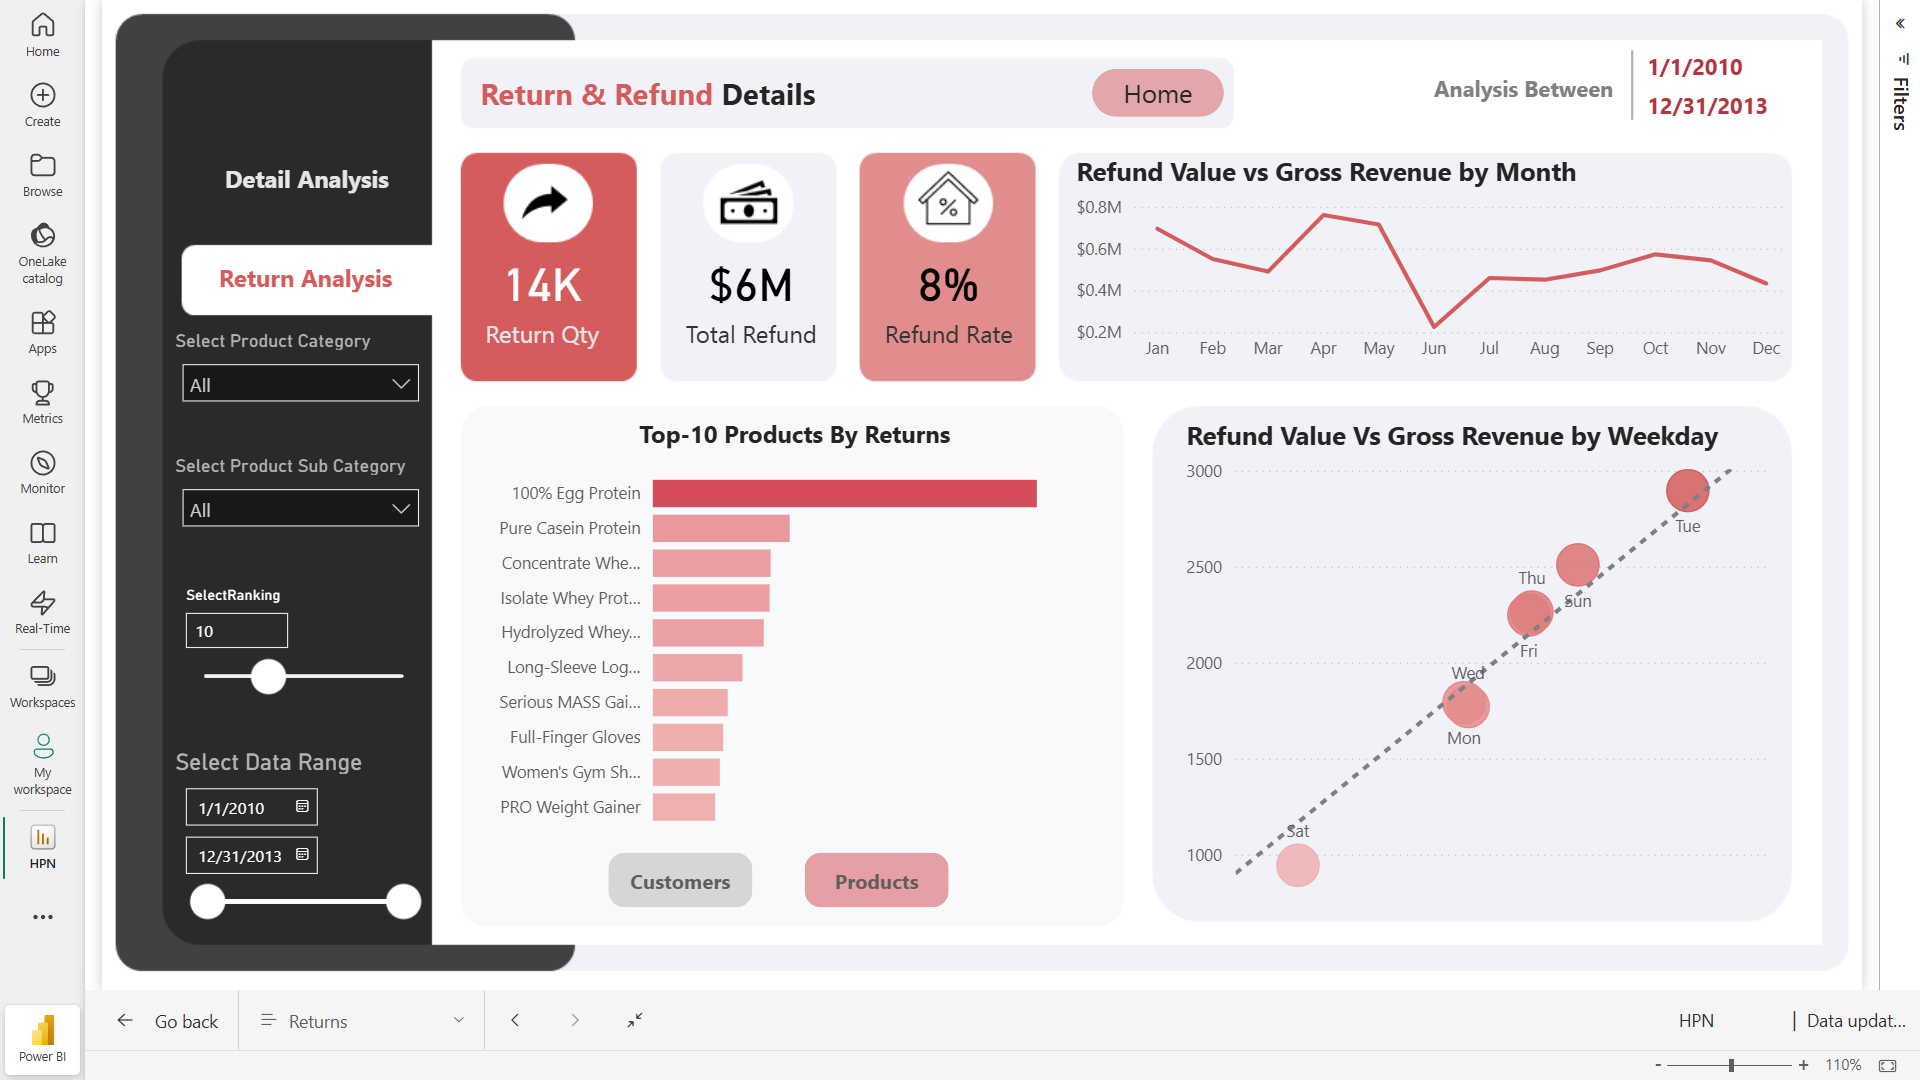

This screenshot's page, from the dashboard's own definition file:
{"tool":"powerbi","page":{"name":"Returns","canvas":[1280,720],"ordinal":5},"visuals":[{"type":"multiRowCard","fields":{"Values":["All Measures.First date","All Measures.Last date"]},"box":[1107.2,32,160,64],"z":0,"group":"g4"},{"type":"actionButton","title":"C inactive","box":[368,620,105,40],"z":0,"group":"g2"},{"type":"group","id":"g1","title":"BTN Products","box":[511,620,112,48],"z":0},{"type":"textbox","box":[963.2,48,160,32],"z":1000,"group":"g4"},{"type":"clusteredBarChart","fields":{"Category":["Lookup_Products.ProductName"],"Y":["All Measures.Ranking by Product"]},"box":[272,304,464,309],"z":1000,"group":"g3"},{"type":"group","id":"g2","title":"BTN Customers","box":[368,620,112,48],"z":1000},{"type":"actionButton","title":"P active","box":[511,620,105,40],"z":1000,"group":"g1"},{"type":"slicer","fields":{"Values":["SelectRanking.SelectRanking"]},"box":[48,421.3,192,96],"z":2000},{"type":"group","id":"g3","title":"Charts","box":[272,304,464,309],"z":3000},{"type":"card","fields":{"Values":["All Measures.Quantity Returned"]},"box":[256,160,128,112],"z":4000},{"type":"card","fields":{"Values":["All Measures.Total Refund"]},"box":[416,160,112,112],"z":5000},{"type":"lineChart","title":"Refund Value vs Gross Revenue by Month","fields":{"Category":["Calendar.Year","Calendar.Month","Calendar.QT"],"Y":["All Measures.Total Refund"]},"box":[704,112,528,160],"z":6000},{"type":"card","fields":{"Values":["All Measures.% Refund Rate"]},"box":[560,160,112,112],"z":7000},{"type":"scatterChart","title":"Refund Value Vs Gross Revenue by Weekday","fields":{"Category":["Calendar.Weekday"],"X":["All Measures.Total Refund"],"Y":["All Measures.Quantity Returned"]},"box":[784,304,432,352],"z":8000},{"type":"slicer","title":"Select Data Range","fields":{"Values":["Calendar.Date"]},"box":[48,544,192,128],"z":9000},{"type":"slicer","title":"Select Product Category","fields":{"Values":["Lookup_ProductsCategory.CategoryName"]},"box":[48,240,192,64],"z":10000},{"type":"slicer","title":"Select Product Sub Category","fields":{"Values":["Lookup_ProductsSubCategory.SubcategoryName"]},"box":[48,330.7,192,64],"z":11000},{"type":"textbox","box":[270,48,304,48],"z":12000},{"type":"group","id":"g4","title":"Group 1","box":[963.2,32,304,64],"z":13000},{"type":"actionButton","title":"inactive Quartile","box":[61,105,176,48],"z":14000},{"type":"actionButton","title":"inactive Quartile","box":[60,177,176,48],"z":15000},{"type":"actionButton","box":[720,50,96,35],"z":16000}]}

Visuals, with their boxes on the page's 1280x720 design canvas (x1, y1, x2, y2). These are canvas units, not pixel positions in the 1920x1080 screenshot, which may show the page scaled, cropped or inside an application window:
multiRowCard - All Measures.First date x All Measures.Last date: 1107/32/1267/96
"C inactive" actionButton: 368/620/473/660
"BTN Products" group: 511/620/623/668
textbox: 963/48/1123/80
clusteredBarChart - Lookup_Products.ProductName x All Measures.Ranking by Product: 272/304/736/613
"BTN Customers" group: 368/620/480/668
"P active" actionButton: 511/620/616/660
slicer - SelectRanking.SelectRanking: 48/421/240/517
"Charts" group: 272/304/736/613
card - All Measures.Quantity Returned: 256/160/384/272
card - All Measures.Total Refund: 416/160/528/272
"Refund Value vs Gross Revenue by Month" lineChart: 704/112/1232/272
card - All Measures.% Refund Rate: 560/160/672/272
"Refund Value Vs Gross Revenue by Weekday" scatterChart: 784/304/1216/656
"Select Data Range" slicer: 48/544/240/672
"Select Product Category" slicer: 48/240/240/304
"Select Product Sub Category" slicer: 48/331/240/395
textbox: 270/48/574/96
"Group 1" group: 963/32/1267/96
"inactive Quartile" actionButton: 61/105/237/153
"inactive Quartile" actionButton: 60/177/236/225
actionButton: 720/50/816/85
